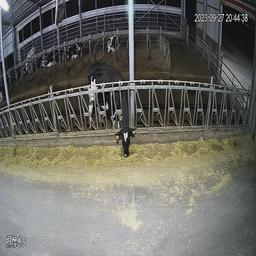cow: (86, 62, 136, 166), (23, 38, 40, 77), (66, 35, 84, 64), (43, 43, 61, 71), (104, 27, 121, 51)
